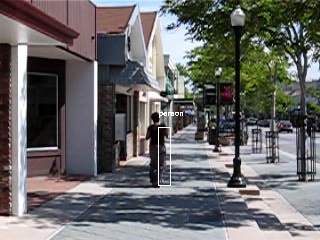person: (146, 113, 169, 188), (145, 113, 168, 188), (147, 113, 170, 188), (146, 112, 169, 187), (146, 114, 169, 189)
target_negative: (120, 107, 263, 216), (69, 118, 112, 160), (257, 18, 264, 157), (312, 208, 320, 235), (244, 148, 274, 152), (227, 233, 238, 240)
